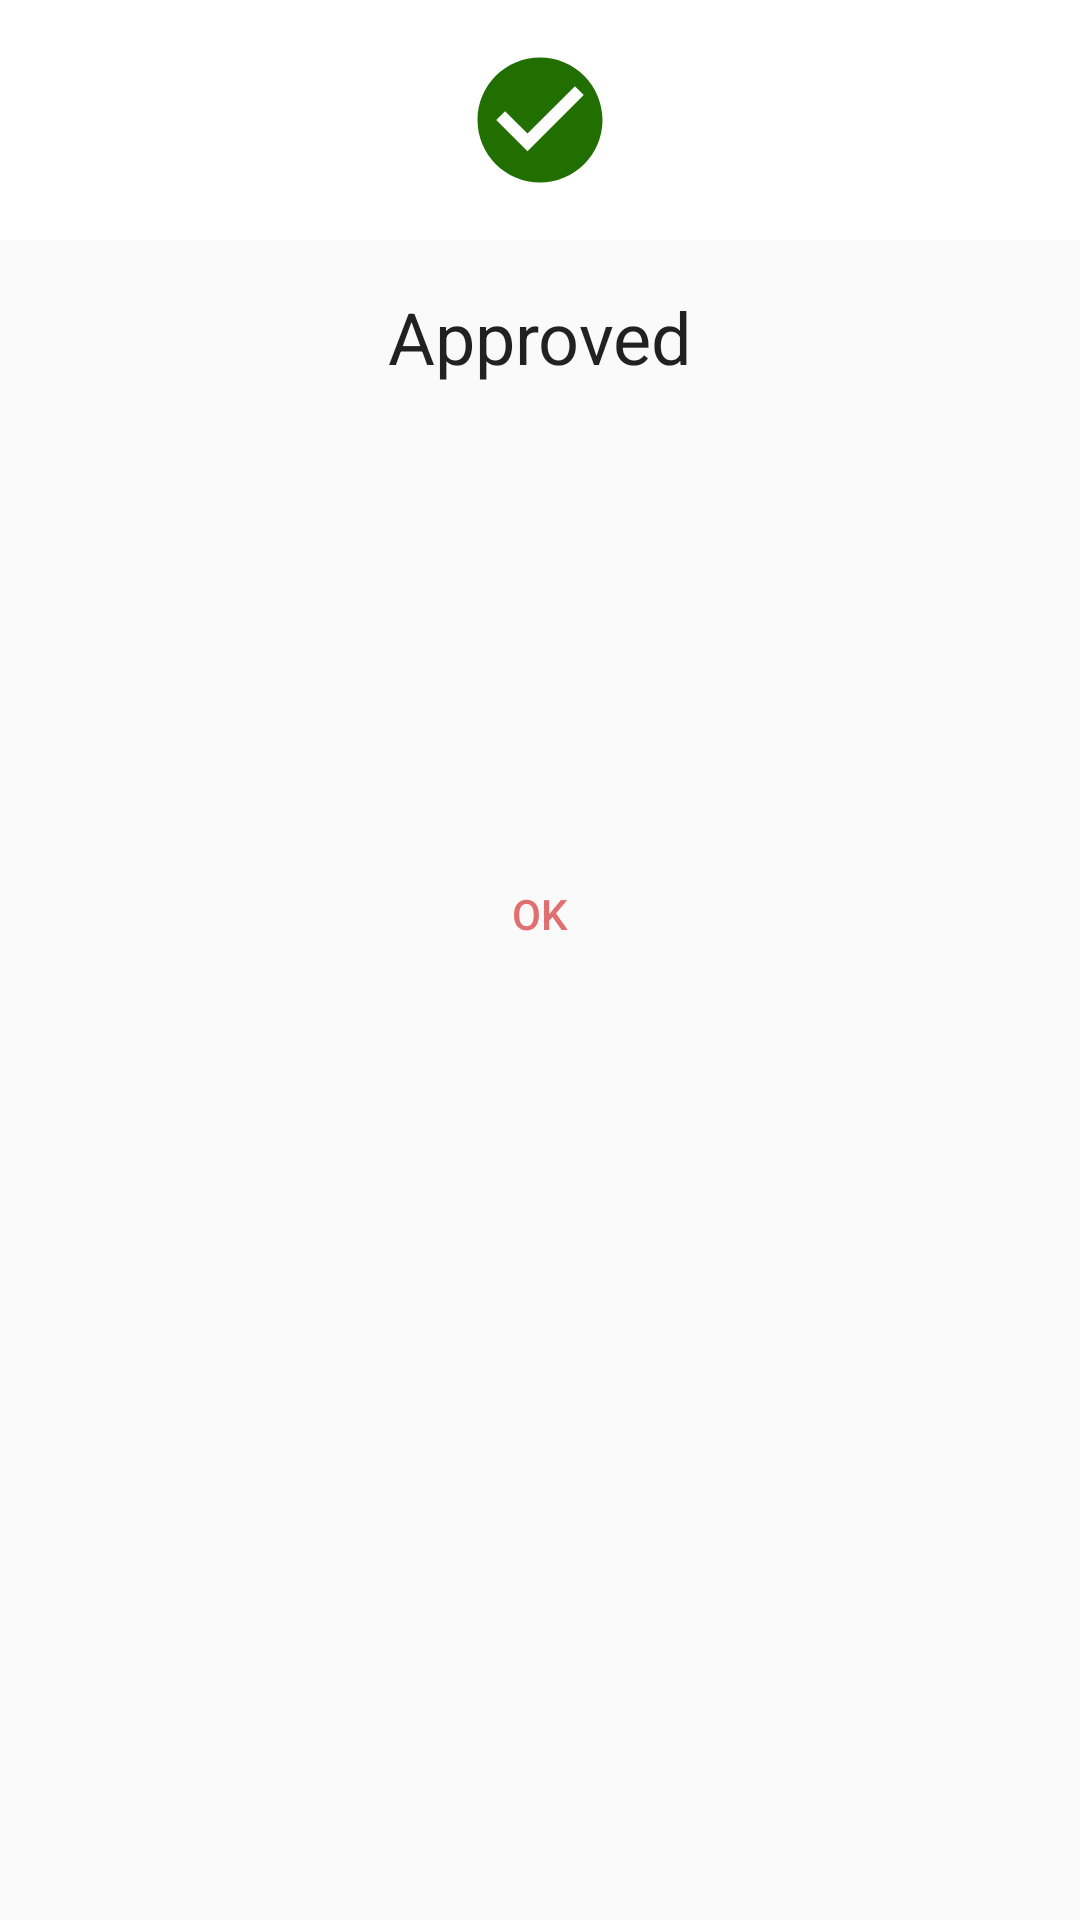

Where to tap for icons on this 1080 x 1920 app screen, as point (x, y):
check circle: point (540, 120)
